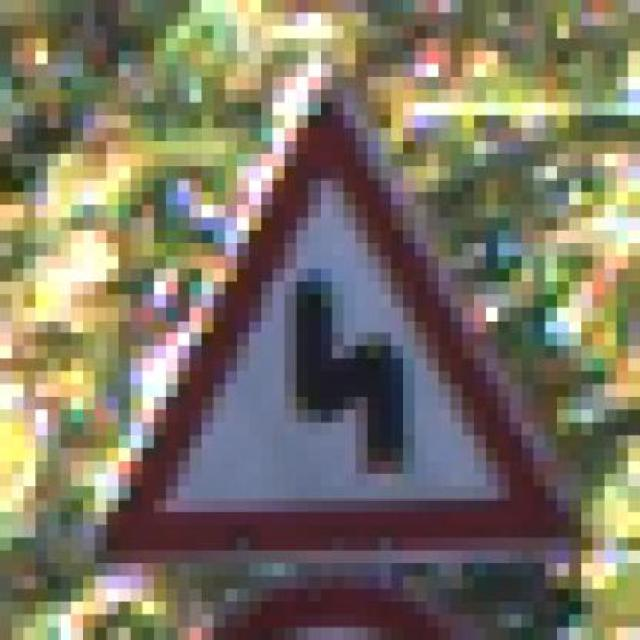Left Zig Zag Traffic: (83, 76, 605, 576)
